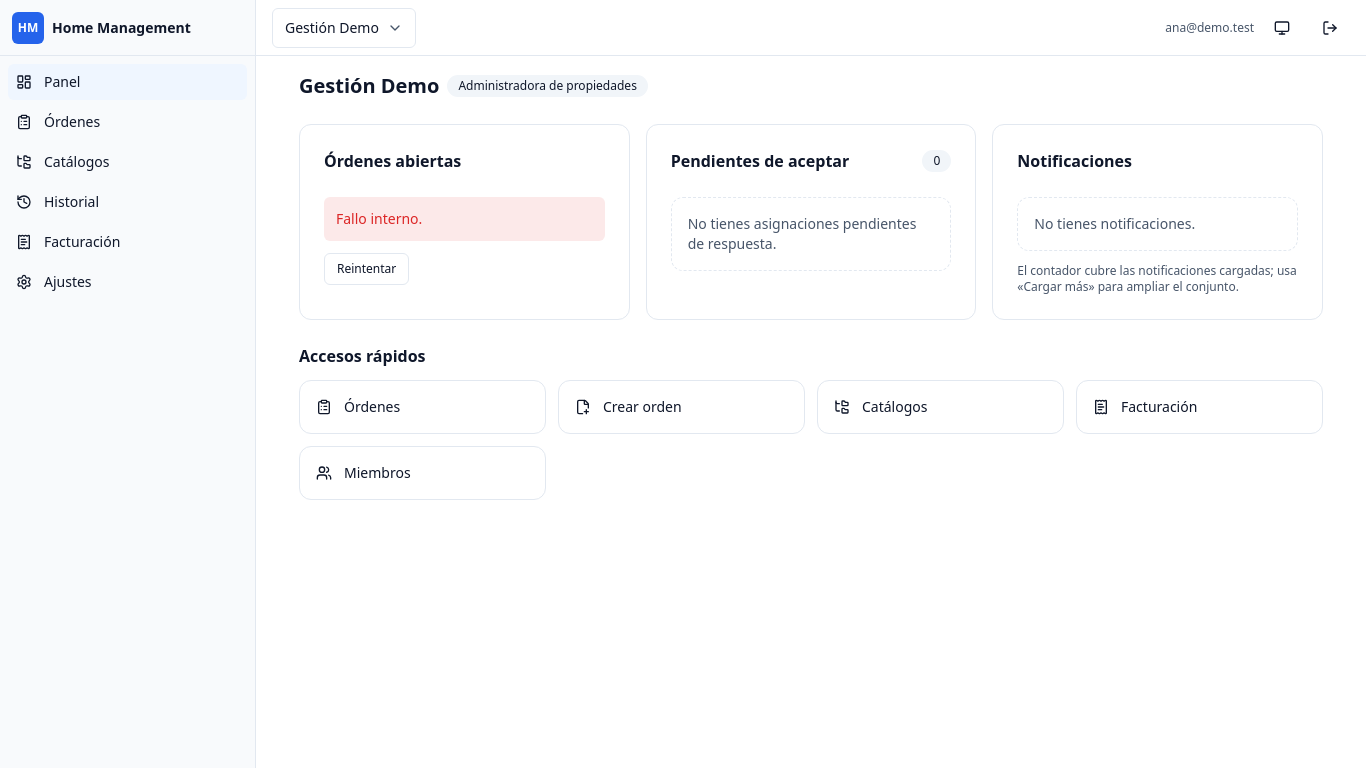
Test: dashboard screen (spec F2) › recovers a failed card with its own retry (AC-F2.10)
Expected: the text "Fallo interno." is shown, [324,197,605,241]
Expected: the text "No tienes asignaciones pendientes de respuesta." is shown, [671,197,951,271]
Click the button "Reintentar" at (367, 269), box [324,253,409,285]
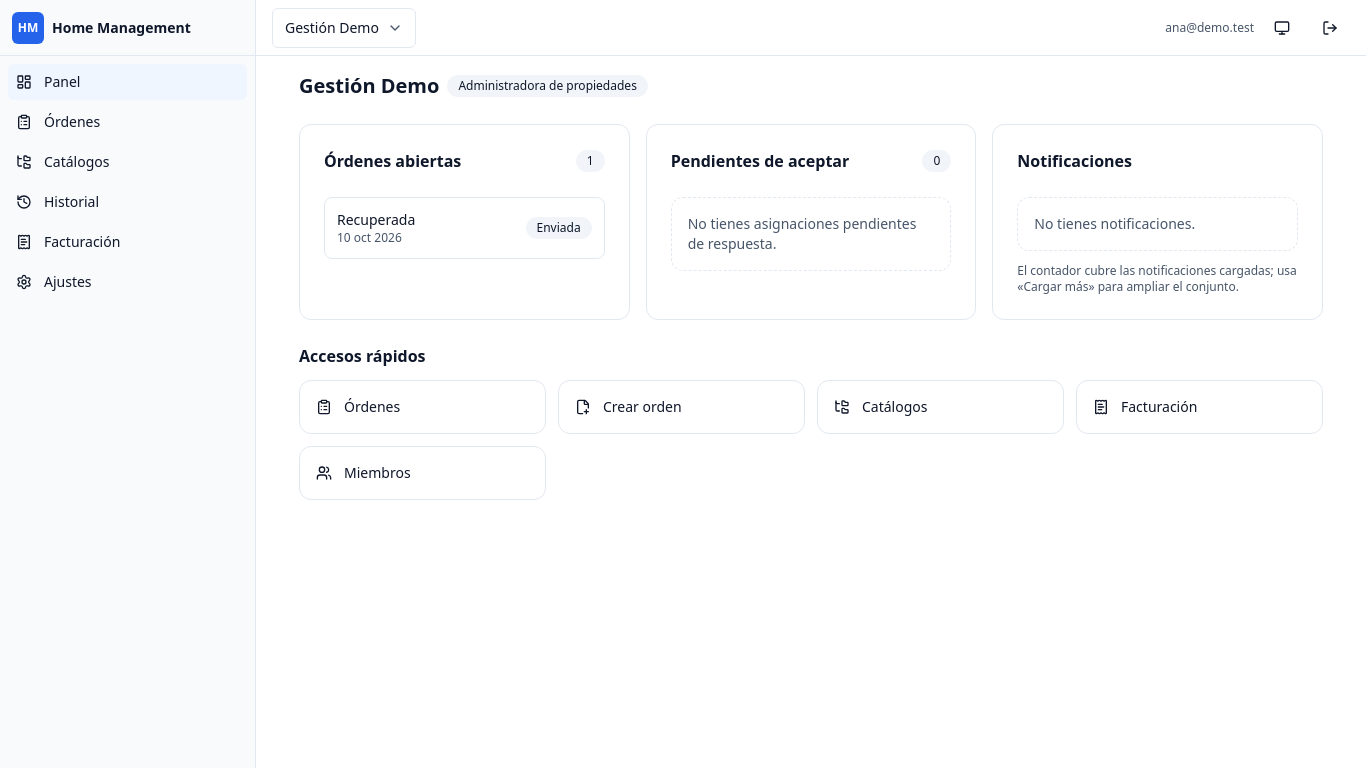
Expected: the text "Recuperada" is shown, [337,210,415,230]
